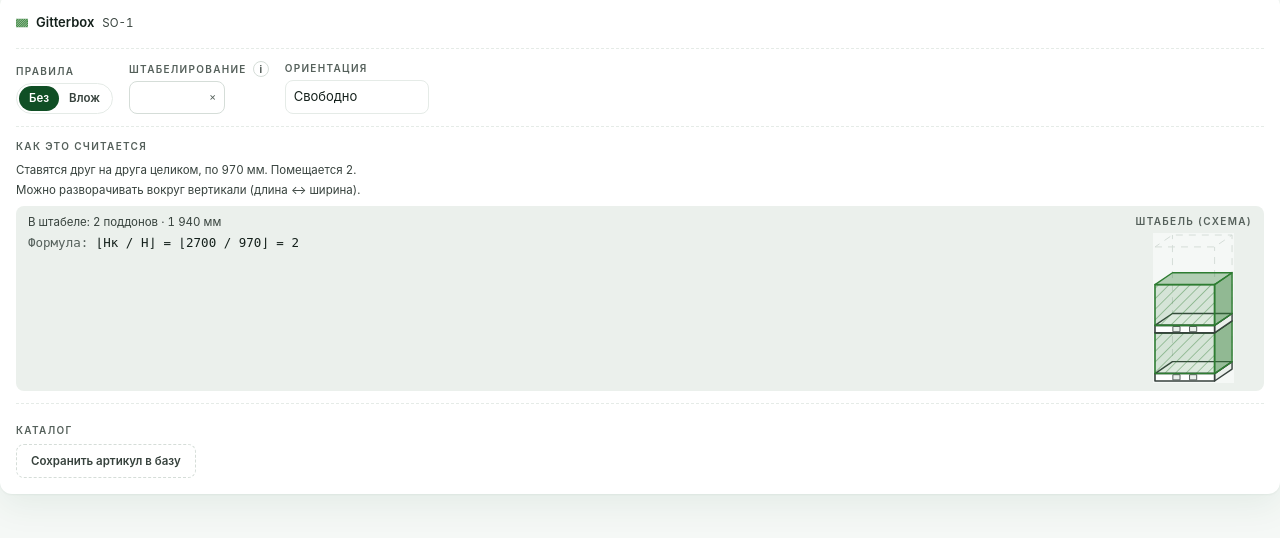
RulesPanel — сохранение артикула не дублируется (clb) › снимает блокировку и после неудачного сохранения — иначе повторить было бы нечем
Click the button "Сохранить артикул в базу".
click(106, 461)  # box x1=16 y1=444 x2=196 y2=478
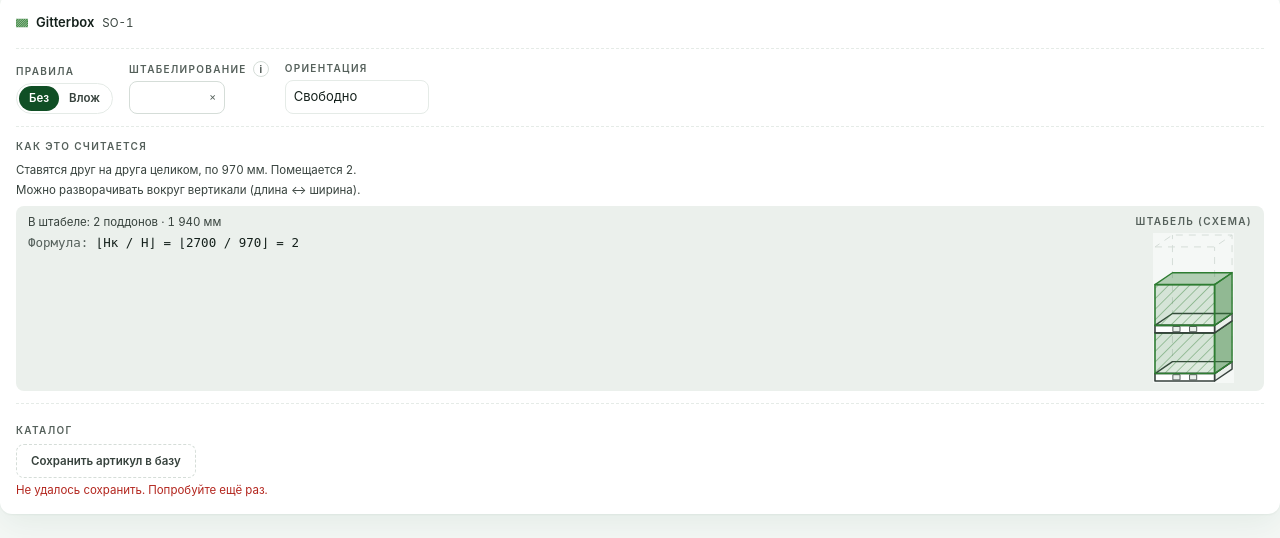
Check: the text "Не удалось сохранить. Попробуйте ещё раз." is shown, box x1=16 y1=483 x2=268 y2=497
